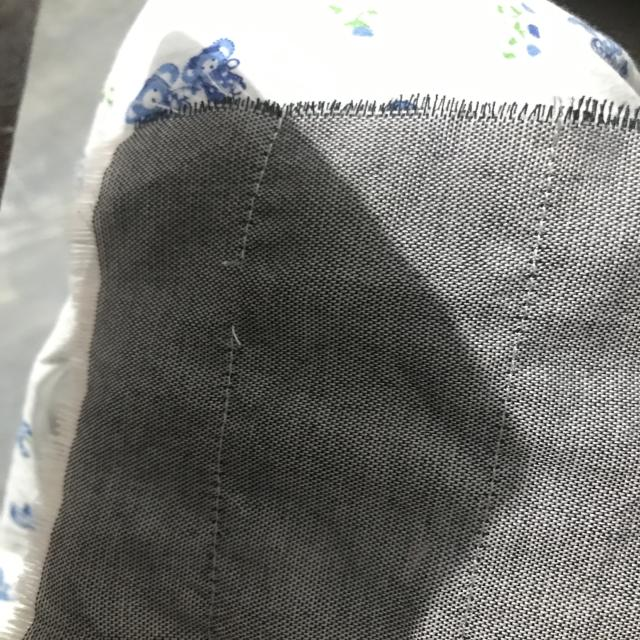broken: (218, 245, 265, 355)
good: (214, 373, 240, 445)
